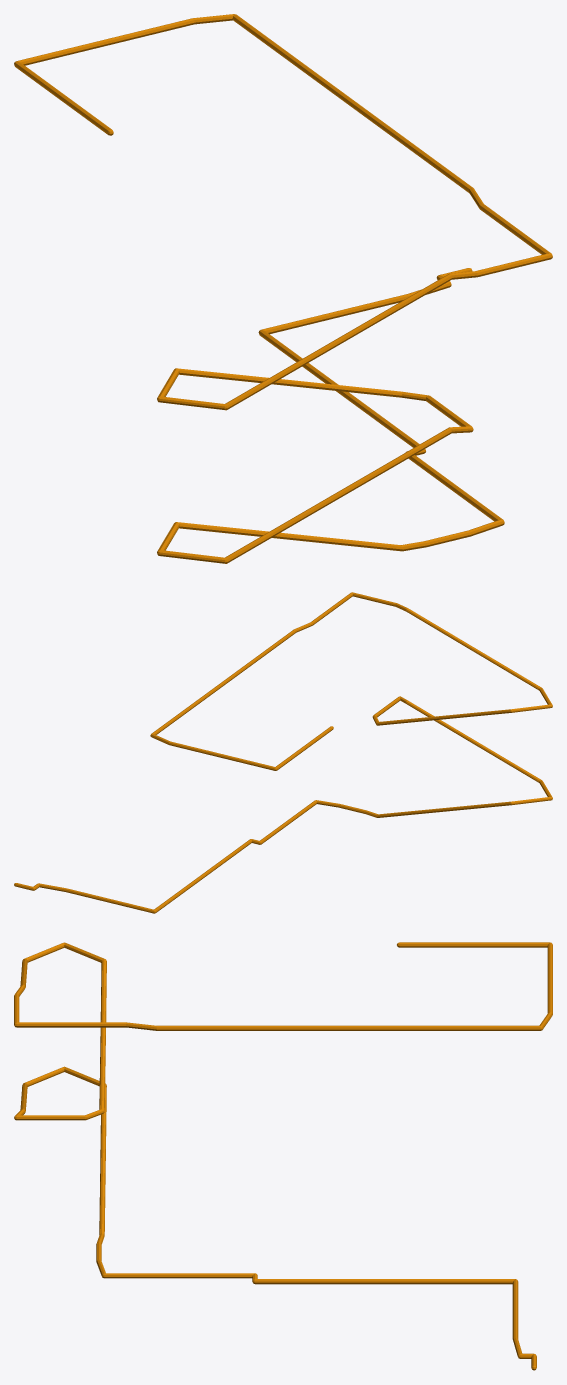
3 views of the same model, one above another, from view 1: azimuth 30°, elevation 25°; view 2: azimuth 150°, elevation 25°; view 3: azimuth 270°, elevation 25° (orthographic). The views are drawn at different scales.
Size of the model in its own units: 2062 by 1020 by 1966.
